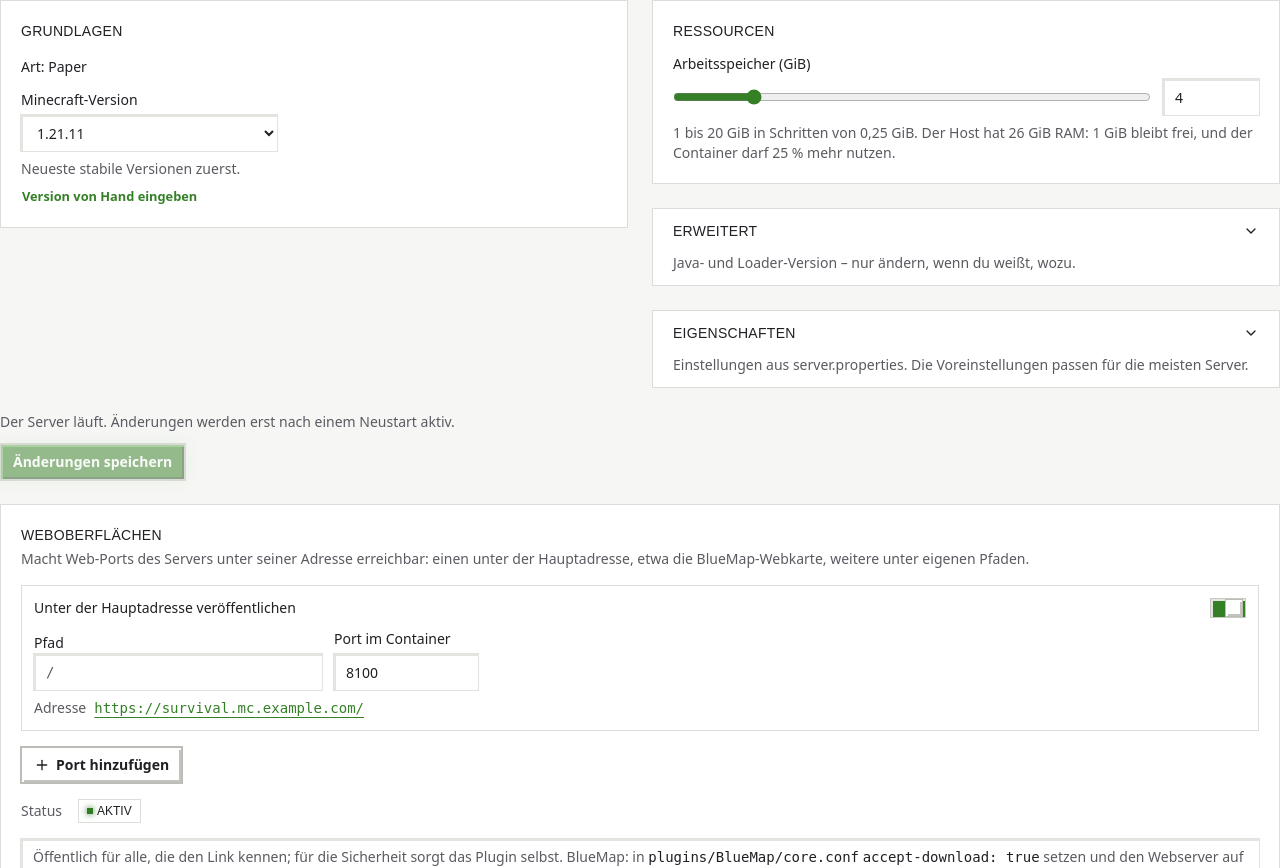
ServerSettingsTab › drafts (issue #154) › marks a field changed on both sides and loads the stored state on request
Step 1. Replace the text in the number field labelled "Arbeitsspeicher (GiB)" with "5" → point(1211, 97), box [1163,79,1259,115]
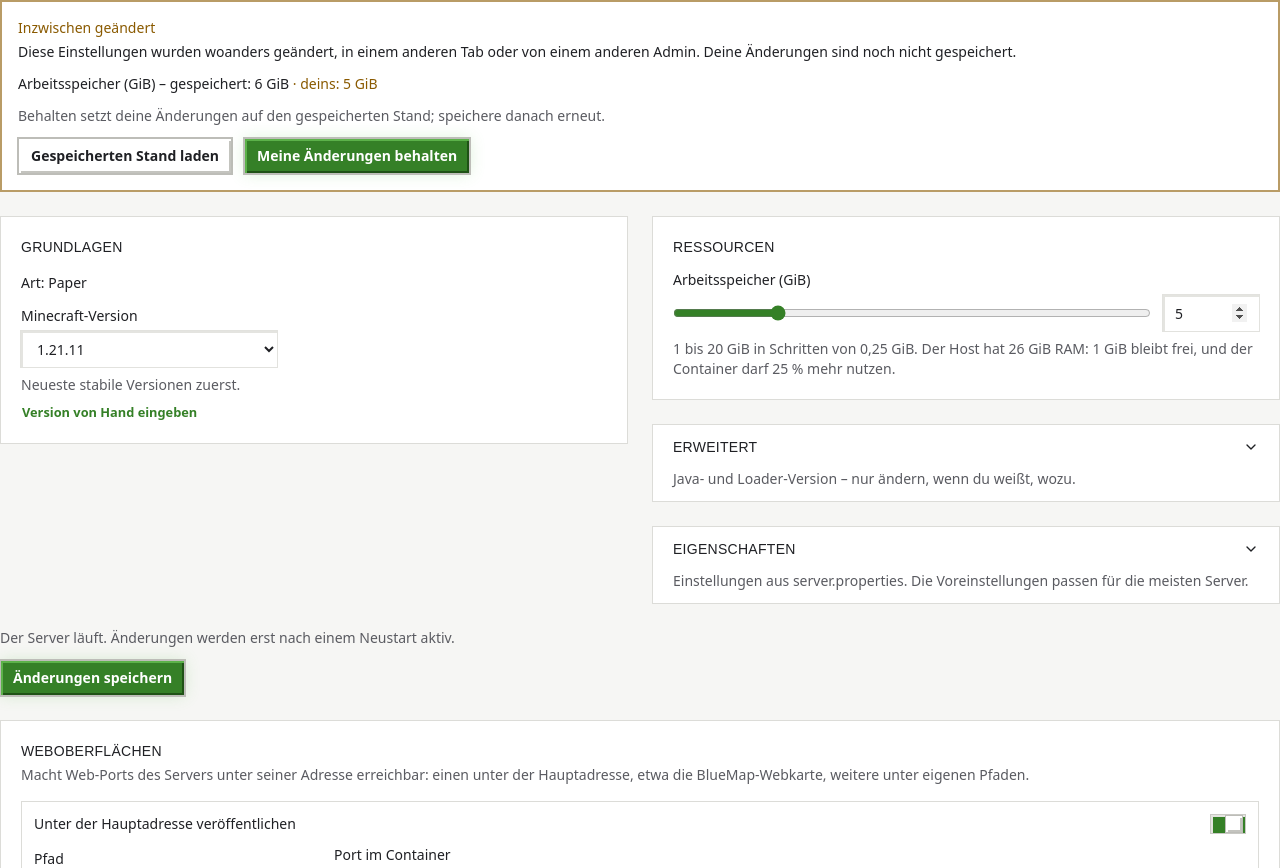
Step 2. Click the button "Gespeicherten Stand laden" → point(125, 156), box [18,138,232,174]
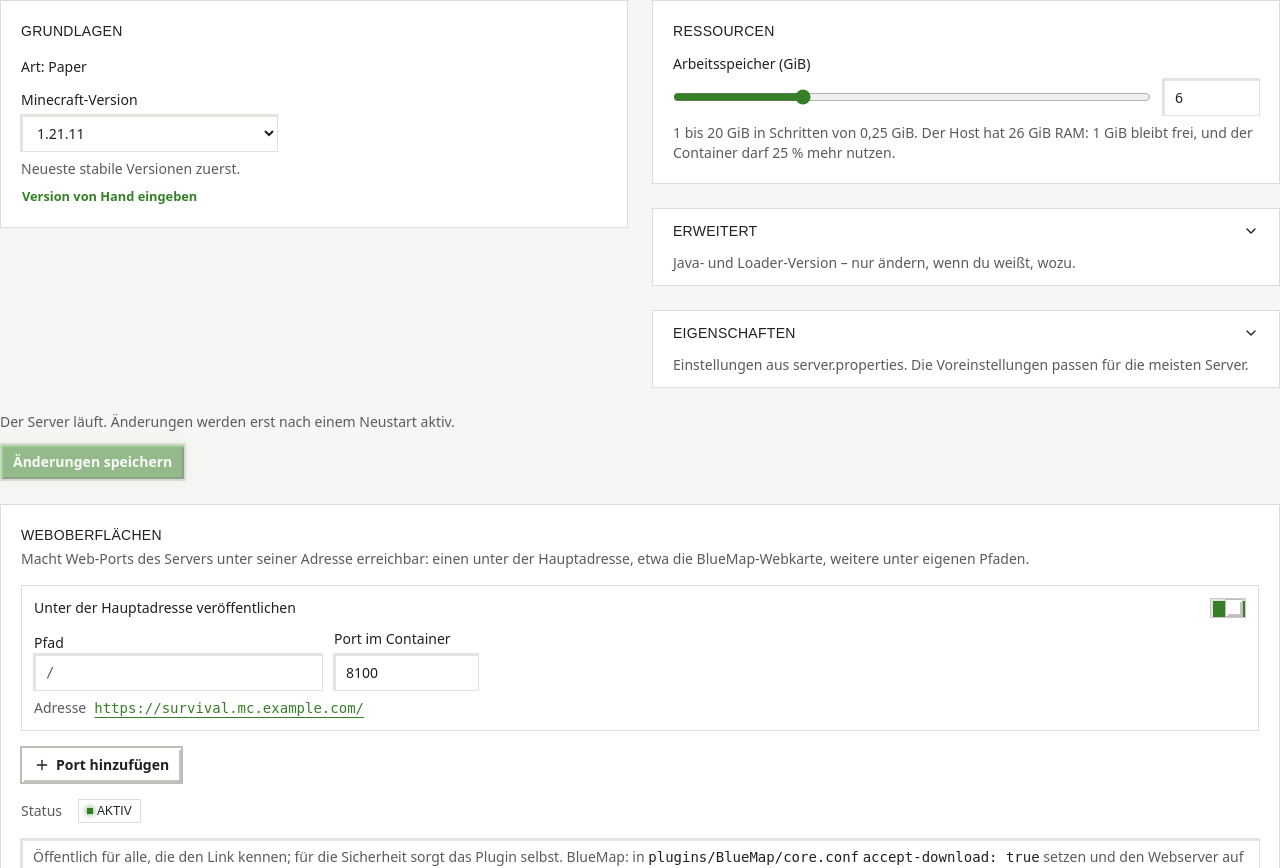
Expected: the text "Inzwischen geändert" is gone
Expected: the number field labelled "Arbeitsspeicher (GiB)" holds "6", [1163,79,1259,115]
Expected: the button "Änderungen speichern" is disabled, [0,444,185,480]
